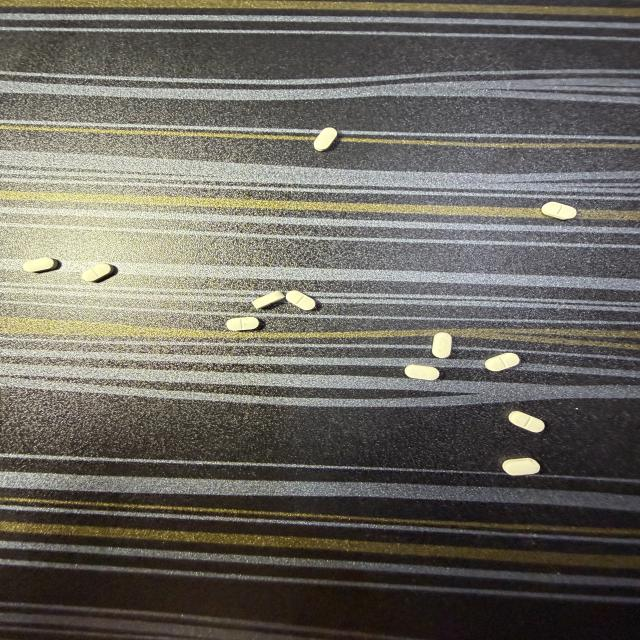pill: (509, 411, 544, 432), (81, 263, 115, 282), (503, 458, 540, 475), (485, 353, 519, 371), (286, 290, 315, 310), (542, 202, 576, 219), (253, 291, 284, 309), (314, 128, 337, 151), (23, 257, 58, 272), (405, 365, 439, 380), (432, 333, 451, 358), (227, 317, 259, 331)
